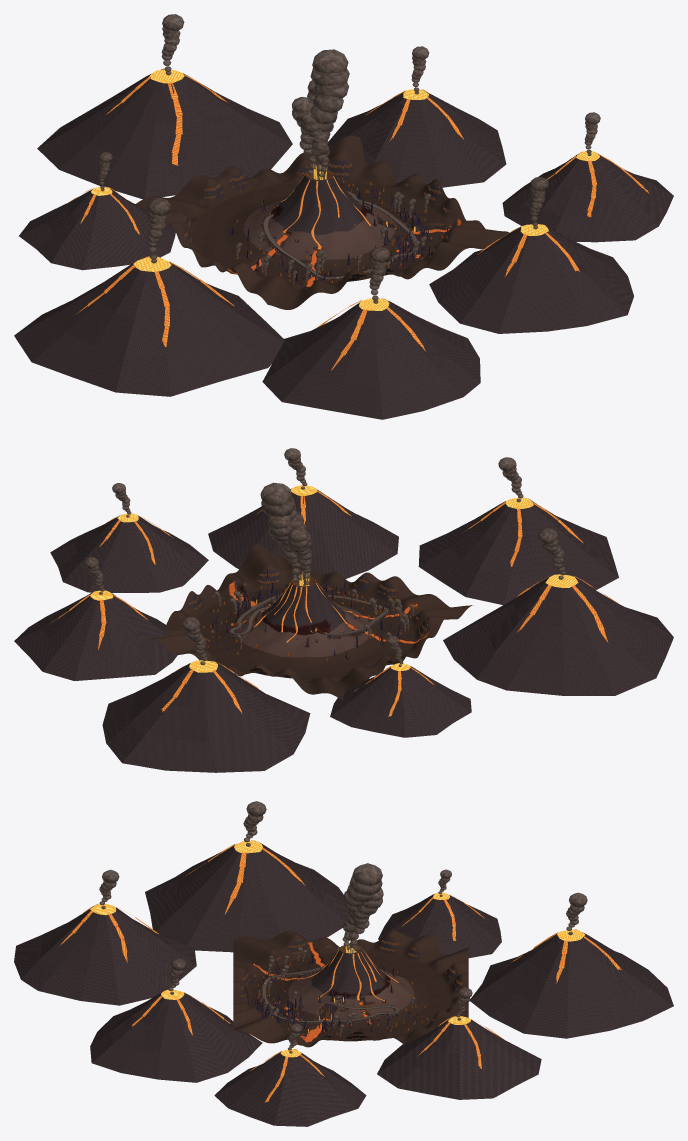
3 renders of one model, top to bottom at view 1: azimuth 30°, elevation 25°; view 2: azimuth 150°, elevation 25°; view 3: azimuth 270°, elevation 25°, orthographic. The views are drawn at different scales.
Visible parts, largest first — view 1: Land, Far Volcano 0.001, Far Volcano 1, Far Volcano 0.002, Far Volcano 1.001, Far Volcano 0, Far Volcano 2.001, Far Volcano 2, Volcano Core, Smoke Plume 0 90, Smoke Plume 0 90.002, Smoke Plume 1 70.003 (+4 smaller); view 2: Land, Far Volcano 0.001, Far Volcano 1, Far Volcano 0.002, Far Volcano 0, Far Volcano 2.001, Far Volcano 1.001, Far Volcano 2, Volcano Core, Smoke Plume 0 90, Smoke Plume 0 90.001, Smoke Plume 0 90.002 (+3 smaller); view 3: Land, Far Volcano 0.001, Far Volcano 1, Far Volcano 0.002, Far Volcano 1.001, Far Volcano 0, Far Volcano 2.001, Far Volcano 2, Volcano Core, Smoke Plume 0 90, Smoke Plume 0 90.001, Smoke Plume 1 70.003 (+1 smaller).
Part boxes in pixels (x1,y1,x2,y2): Land: (135, 136, 509, 309); Far Volcano 0.001: (14, 256, 284, 396); Far Volcano 1: (37, 68, 292, 199); Far Volcano 0.002: (262, 298, 480, 419); Far Volcano 1.001: (429, 224, 633, 333); Far Volcano 0: (328, 89, 506, 187); Far Volcano 2.001: (502, 150, 673, 242); Far Volcano 2: (19, 186, 175, 270); Volcano Core: (271, 170, 367, 234); Smoke Plume 0 90: (310, 49, 349, 179); Smoke Plume 0 90.002: (292, 97, 317, 179); Smoke Plume 1 70.003: (147, 197, 170, 263); Land: (149, 543, 473, 700); Far Volcano 0.001: (443, 574, 673, 695); Far Volcano 1: (102, 660, 310, 772); Far Volcano 0.002: (418, 497, 618, 604); Far Volcano 0: (14, 590, 177, 680); Far Volcano 2.001: (50, 513, 208, 592); Far Volcano 1.001: (208, 485, 398, 578); Far Volcano 2: (330, 663, 471, 737); Volcano Core: (261, 577, 346, 635); Smoke Plume 0 90: (260, 482, 307, 586); Smoke Plume 0 90.001: (267, 513, 300, 585); Smoke Plume 0 90.002: (287, 527, 312, 584); Land: (233, 930, 468, 1047); Far Volcano 0.001: (145, 840, 348, 952); Far Volcano 1: (470, 929, 673, 1038); Far Volcano 0.002: (14, 904, 196, 1005); Far Volcano 1.001: (90, 989, 262, 1082); Far Volcano 0: (377, 1016, 541, 1099); Far Volcano 2.001: (214, 1049, 366, 1126); Far Volcano 2: (378, 892, 501, 958); Volcano Core: (311, 945, 390, 1002); Smoke Plume 0 90: (343, 863, 382, 953); Smoke Plume 0 90.001: (349, 885, 383, 952); Smoke Plume 1 70.003: (243, 801, 266, 846).
Size of the model in its own units: 2978 by 767 by 3138.
Materials: 24 (24 with a texture image).
